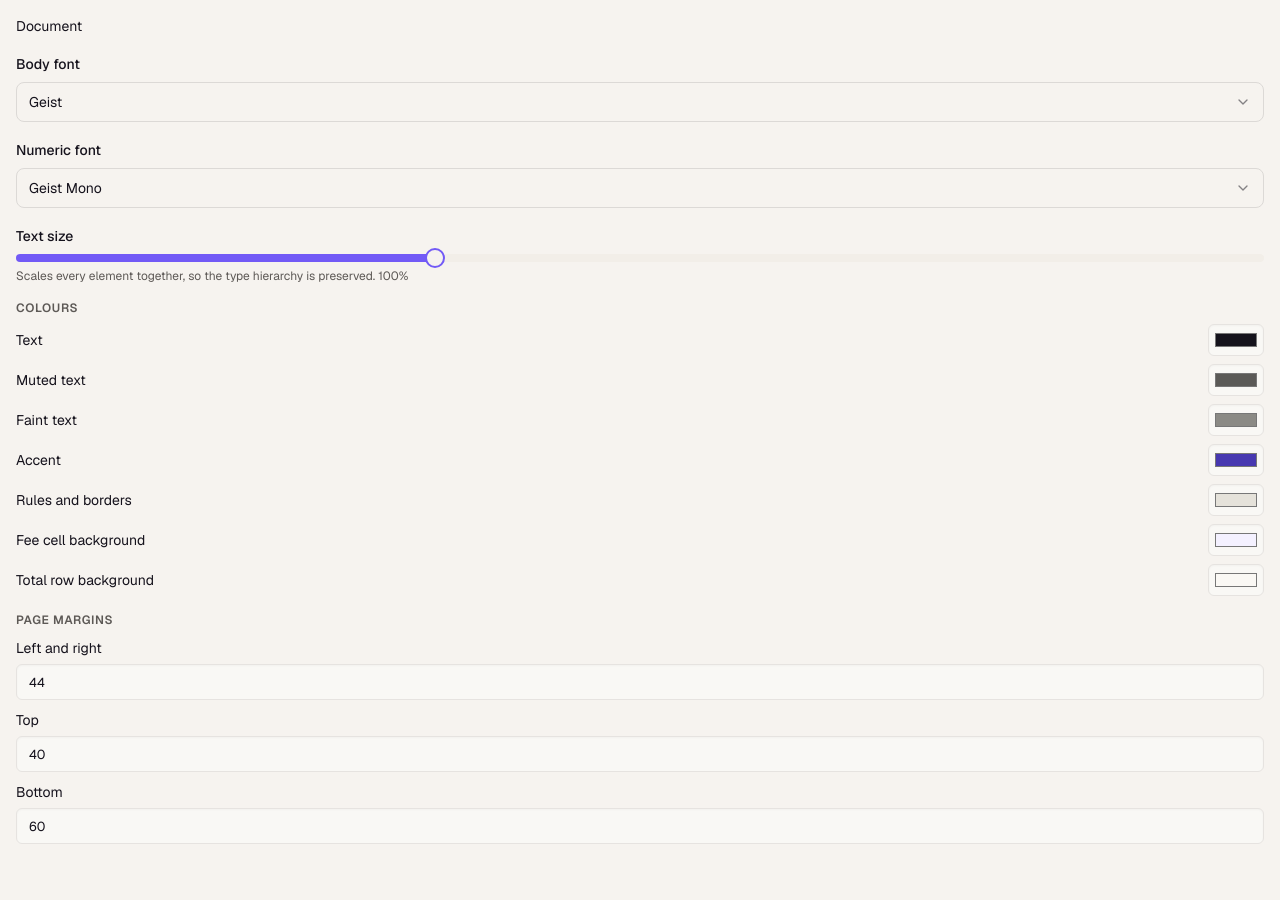
Test: TemplateInspector › only offers selectable fonts for the document body font
The width and height of the screenshot is (1280, 900).
Step 1. Click the dropdown named "Body font" → click(46, 102), box [16,82,1264,122]
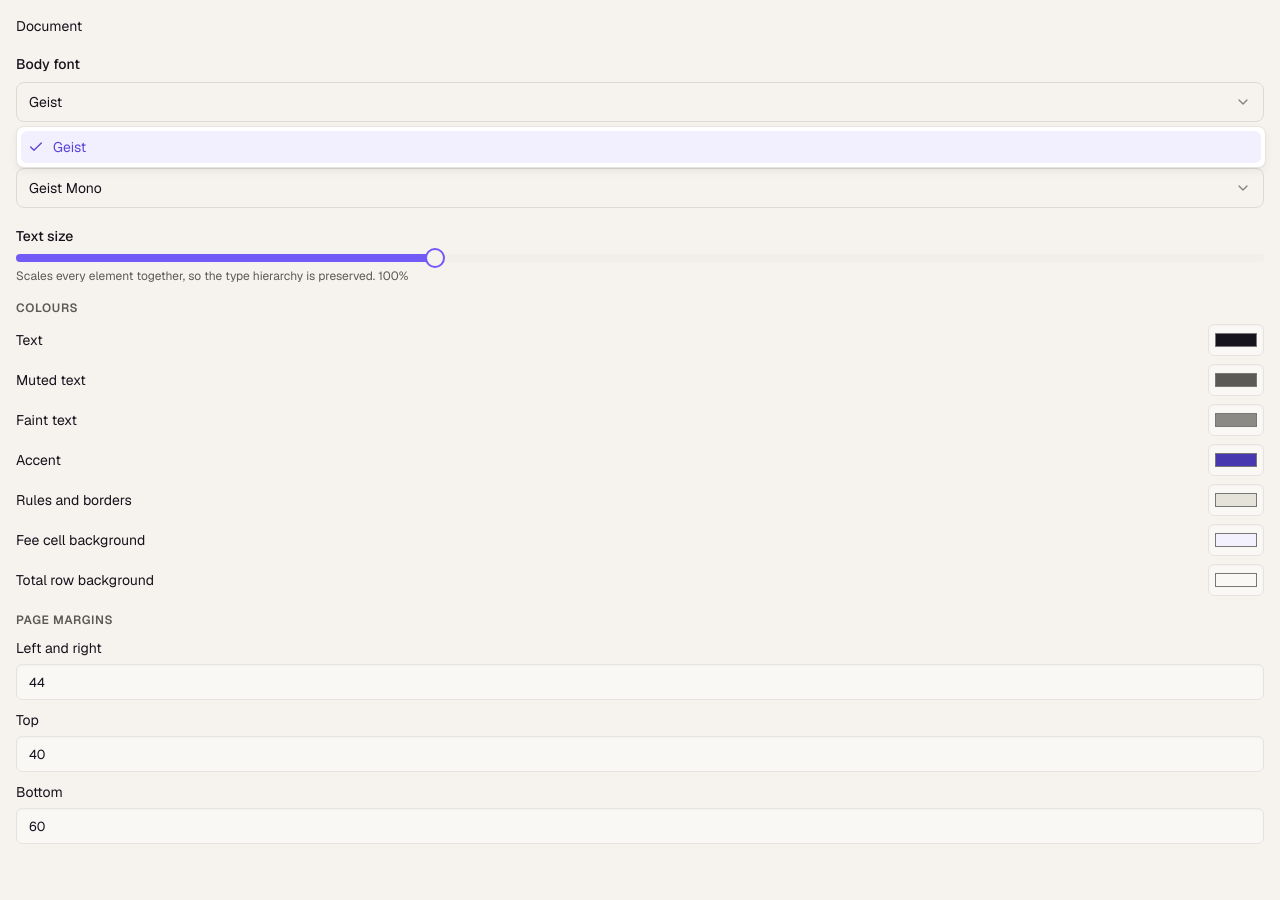
Result: the options read "Geist", in this order at [21,131,1261,163]
